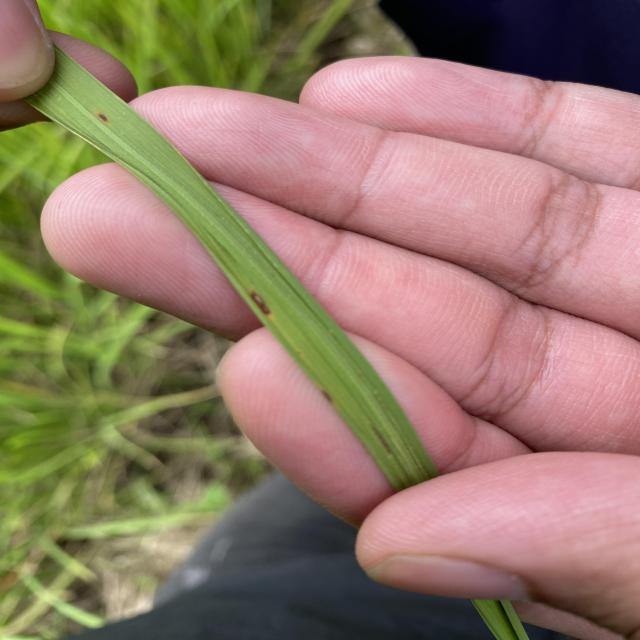Dom nau: (248, 290, 273, 317), (319, 387, 333, 404), (95, 112, 108, 122)
